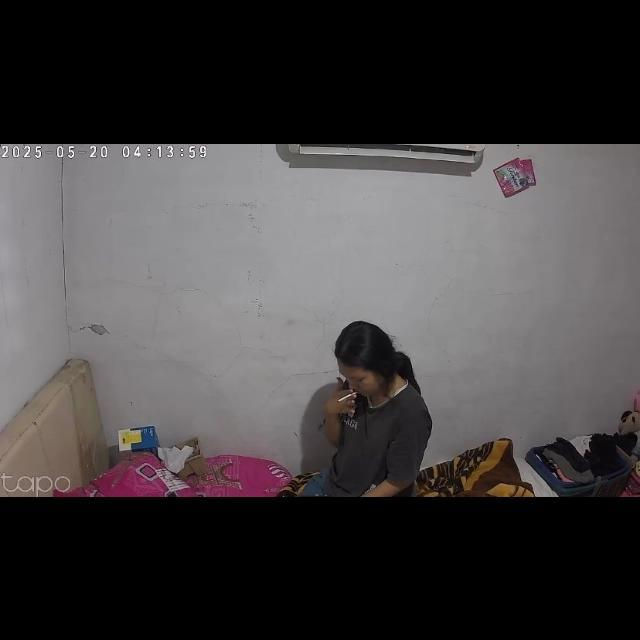rokok: (334, 388, 360, 404)
